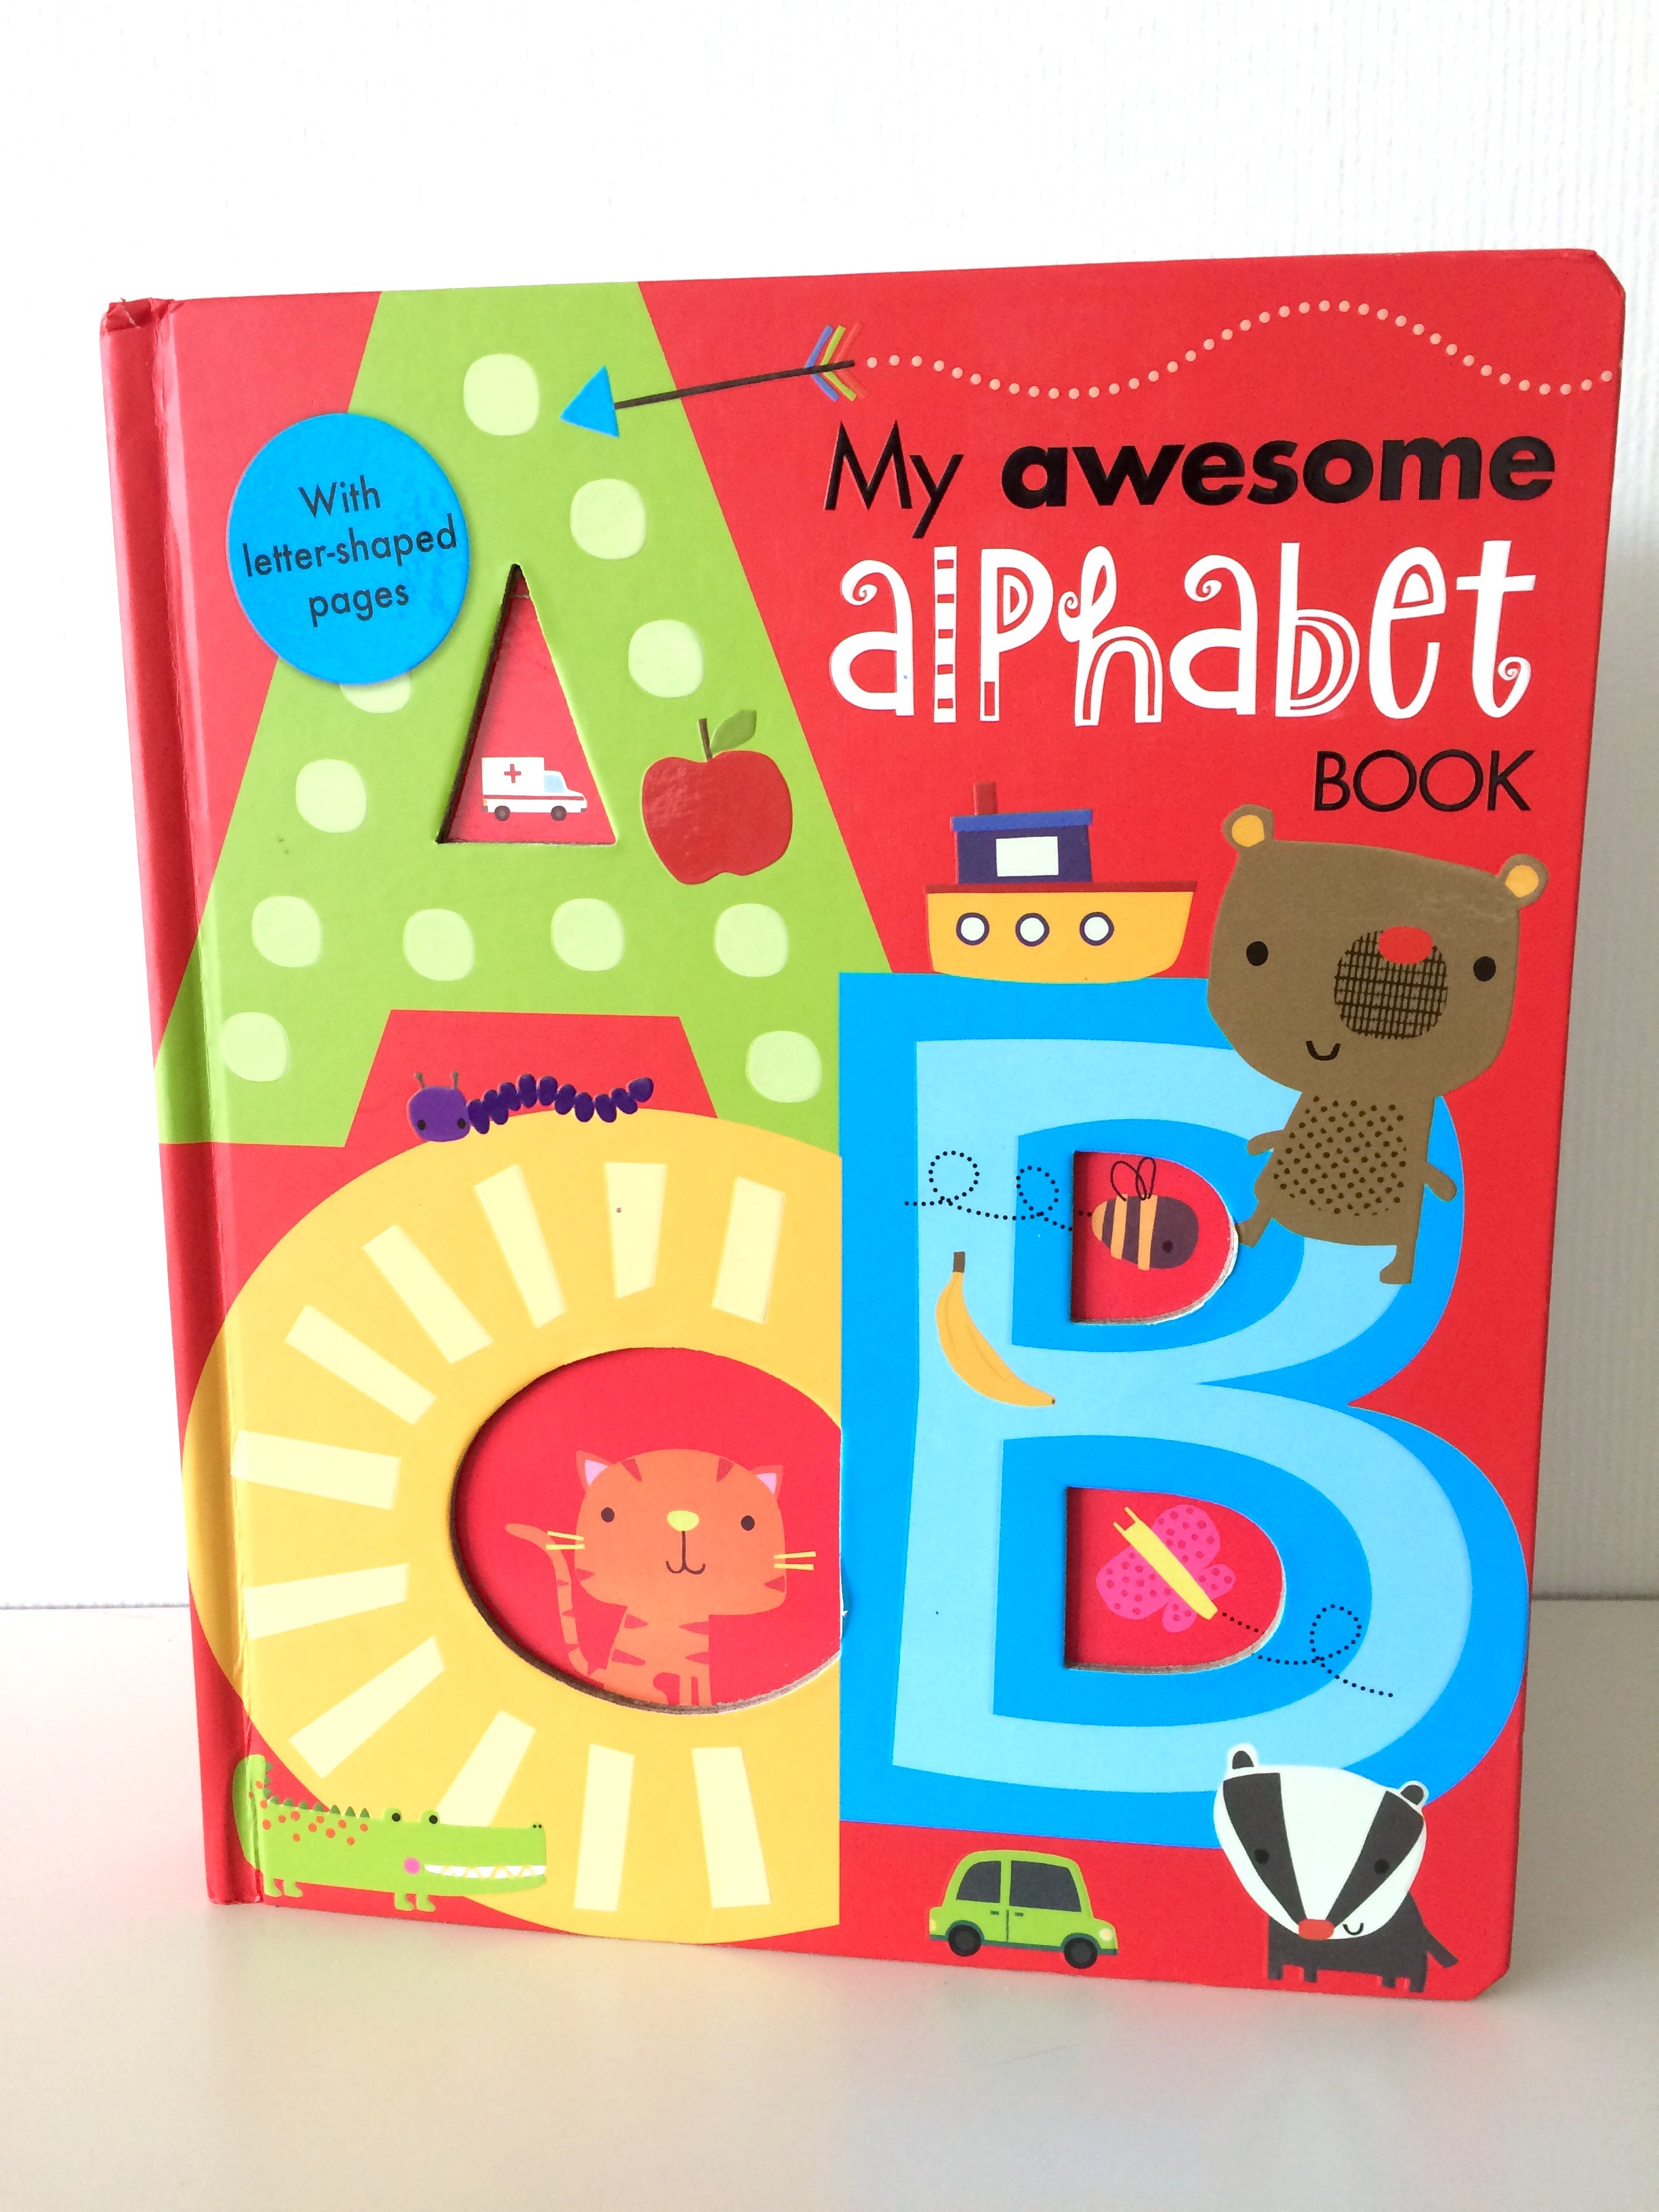book: (98, 254, 1615, 2001)
